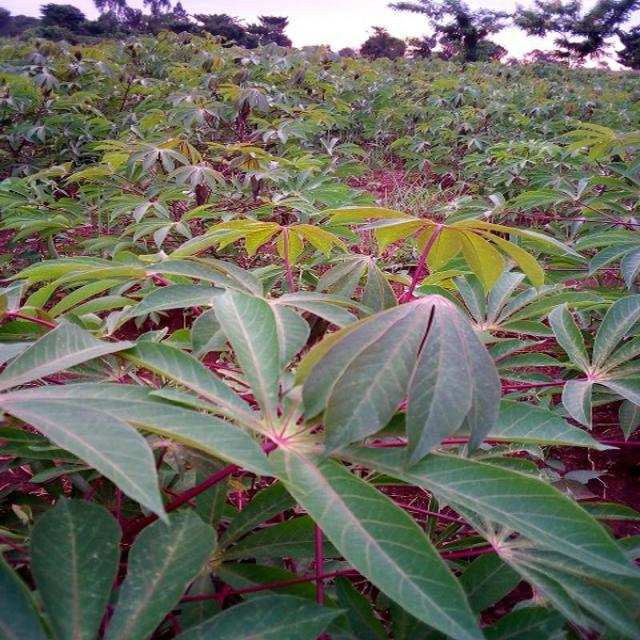cassava leaf: (2, 32, 639, 638), (299, 292, 502, 468)
